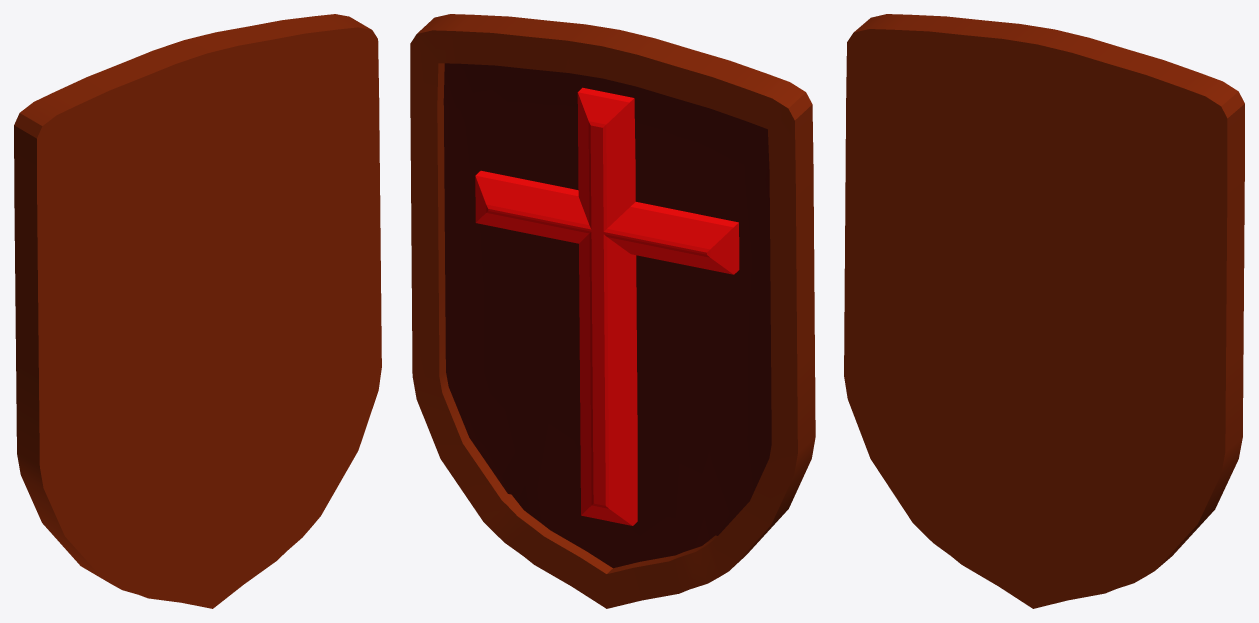
File: Shield.fbx
3 renders of one model, left to right at view 1: azimuth 30°, elevation 25°; view 2: azimuth 150°, elevation 25°; view 3: azimuth 330°, elevation 25°, orthographic. The views are drawn at different scales.
Parts seen in each view (by area): view 1: shieldto_base; view 2: tapa, shieldto_base, cruz; view 3: shieldto_base.
Part boxes in pixels (bbox=[...]): shieldto_base: bbox=[14, 14, 381, 608]; tapa: bbox=[443, 63, 771, 568]; shieldto_base: bbox=[410, 14, 815, 608]; cruz: bbox=[475, 87, 739, 525]; shieldto_base: bbox=[844, 14, 1244, 608].
Bounding box in the file's own units: 112 × 163 × 21.79.
